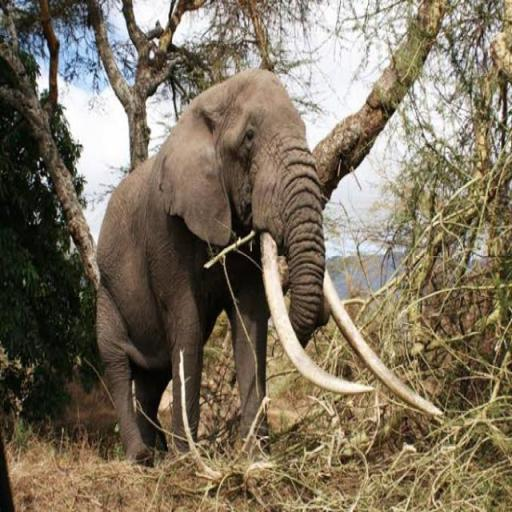Elephant: (94, 66, 444, 466)
